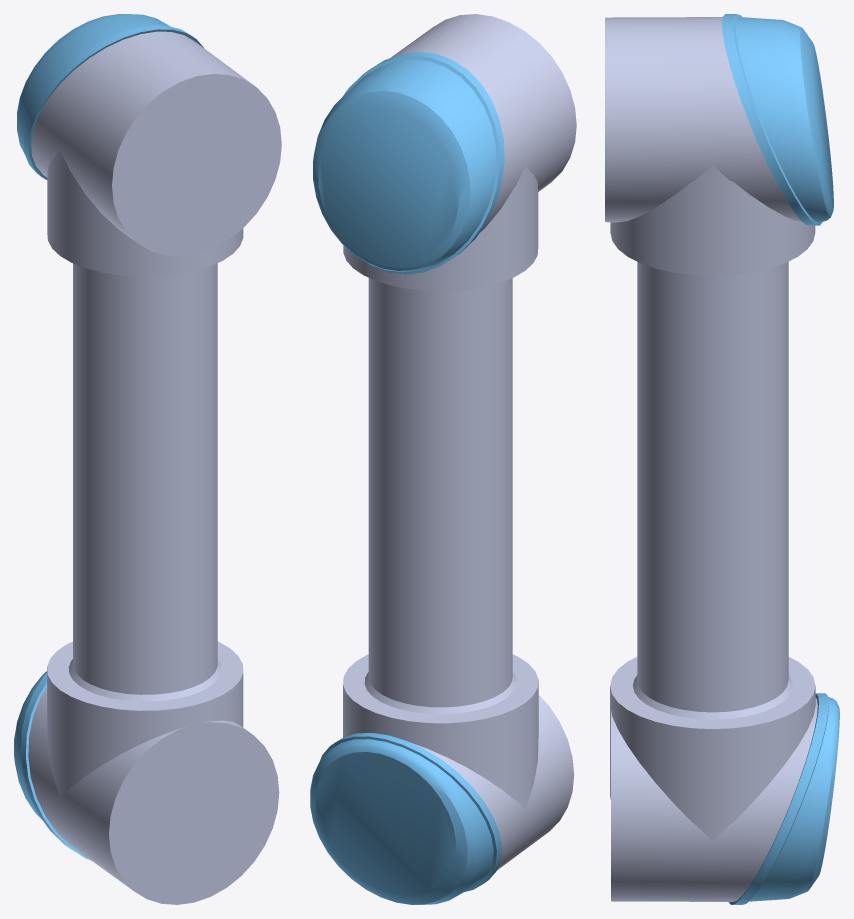
3 views of the same model, side by side, from view 1: azimuth 30°, elevation 25°; view 2: azimuth 150°, elevation 25°; view 3: azimuth 270°, elevation 25° (orthographic). The views are drawn at different scales.
Parts seen in each view (by area): view 1: R2; view 2: R2; view 3: R2.
Boxes of the visible parts, x1=… form: R2: x1=14, y1=14, x2=281, y2=904; R2: x1=310, y1=14, x2=576, y2=904; R2: x1=605, y1=14, x2=839, y2=904.
Size of the model in its own units: 0.1203 by 0.5456 by 0.1333.
